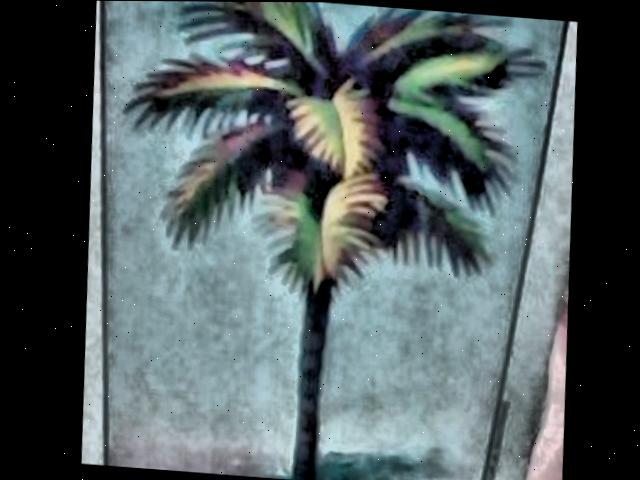La Palma: (104, 1, 563, 480)
